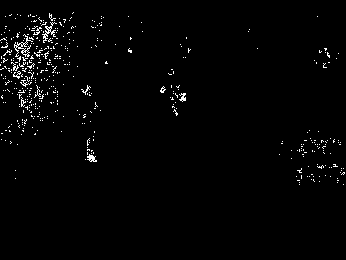person: (159, 68, 188, 119)
